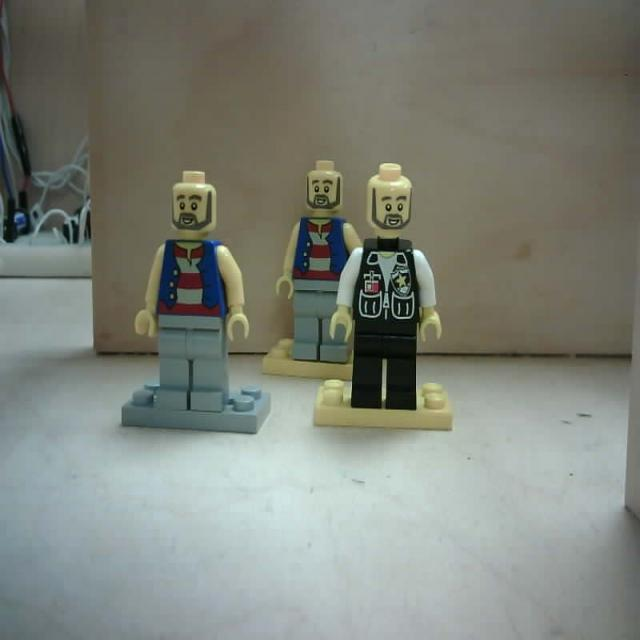Lego-People: (118, 158, 274, 444), (308, 158, 458, 436), (262, 152, 367, 384)
